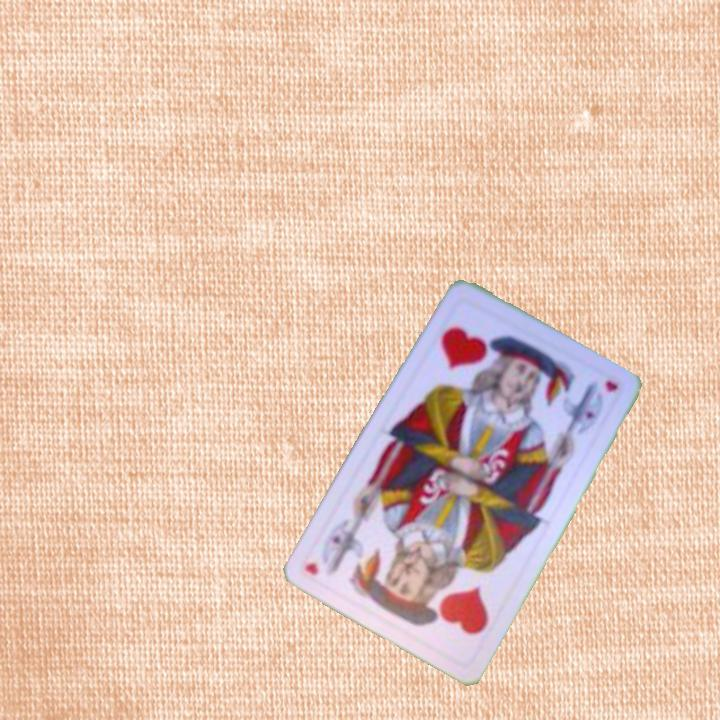h_j.png: (417, 293, 544, 415), (382, 545, 509, 667)
